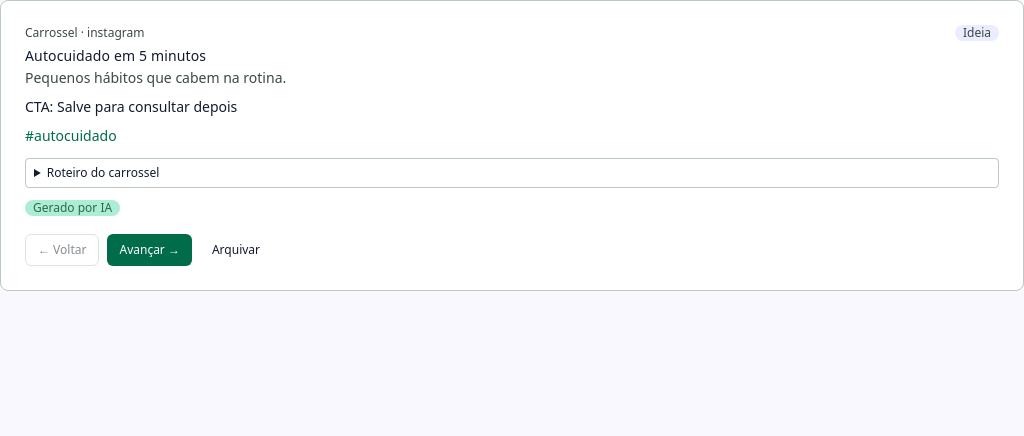
carrossel mostra os slides do roteiro e avisa que não é a arte final
Check: the text "Carrossel · instagram" is shown, box [25,27,144,39]
Click the heading "Roteiro do carrossel" at {"x": 103, "y": 172}, box [47,164,159,181]
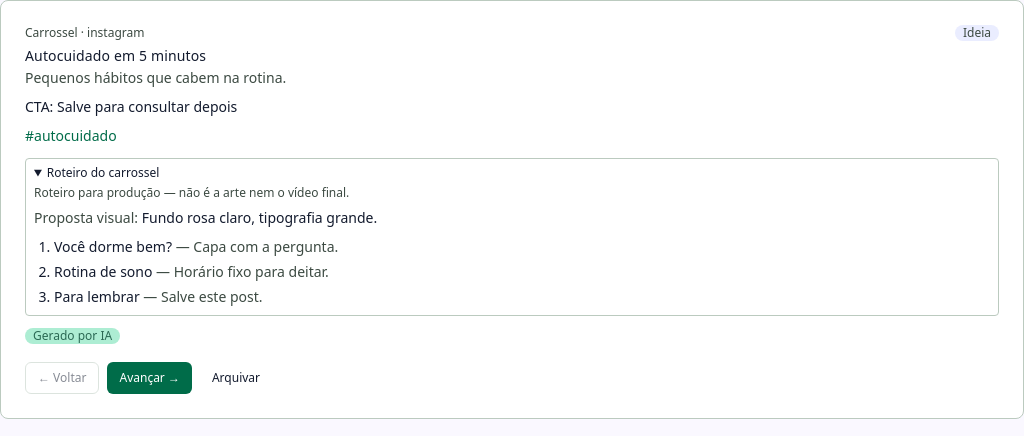
Check: the text "Roteiro para produção — não é a arte nem o vídeo final." is shown, box [34,184,349,201]
Check: the text "Rotina de sono" is shown, box [54,262,152,281]
Check: the text "Proposta visual: Fundo rosa claro, tipografia grande." is shown, box [34,208,377,227]
